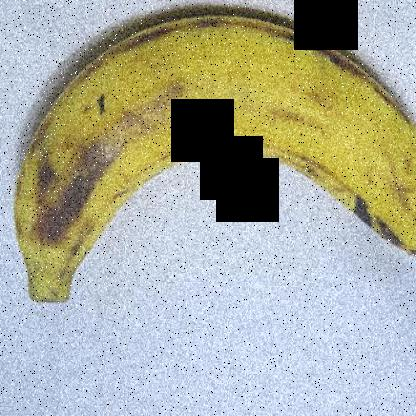overripe: (2, 1, 415, 321)
